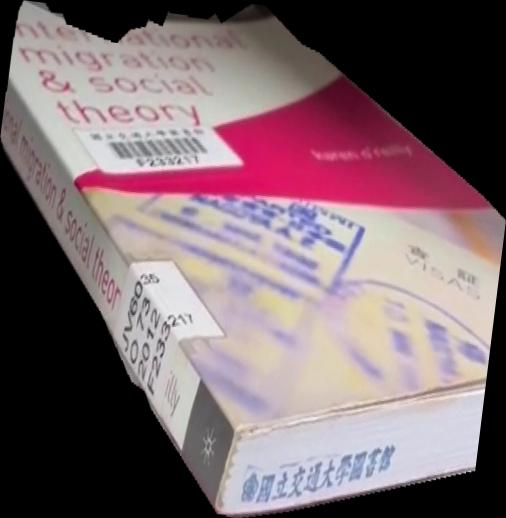flat: (1, 1, 506, 518)
